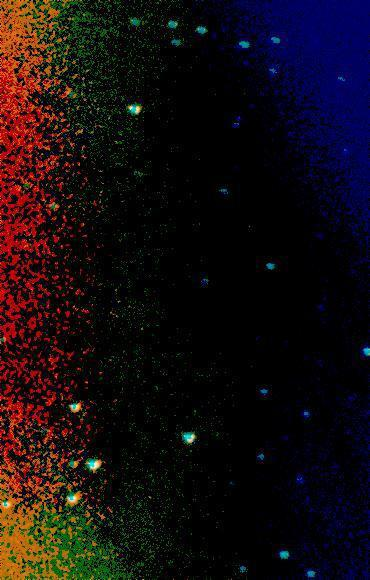star: (2, 177, 32, 207)
